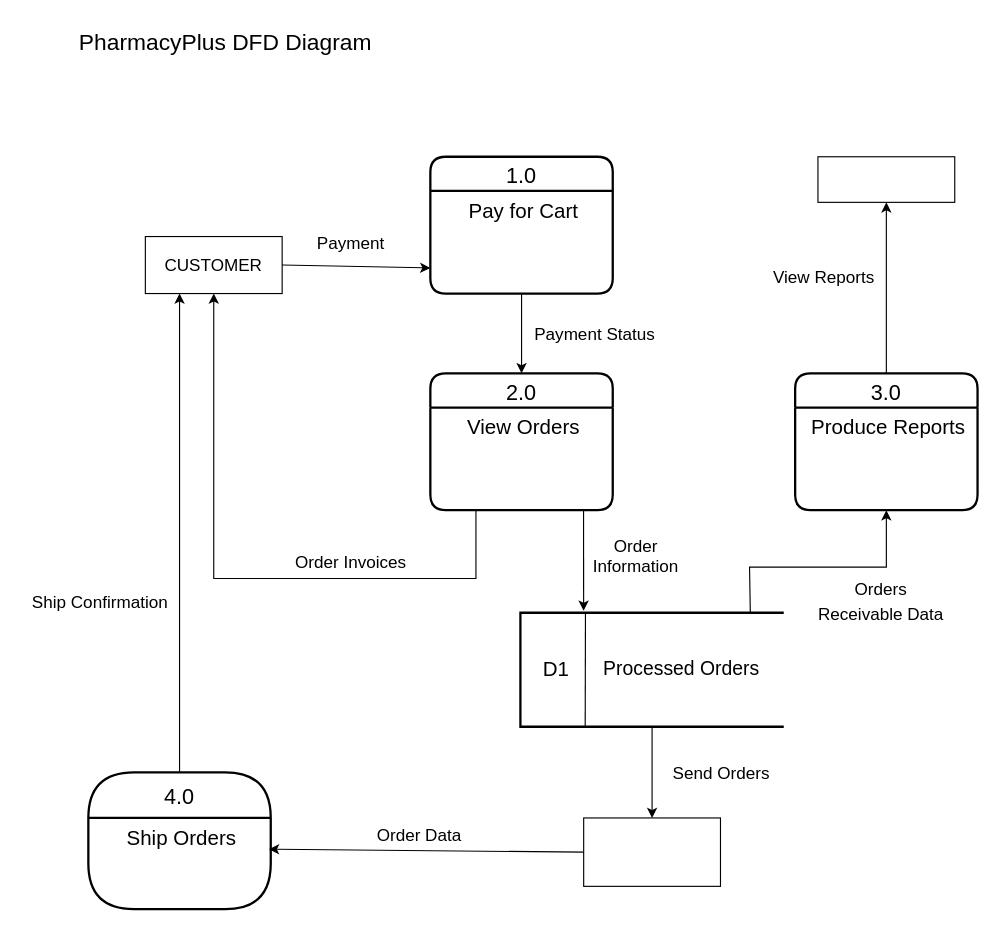
The diagram is 998 pixels wide and 929 high, and some of its shapes have lost their labels. Here are the shapes that lost their labels. From the top down, the centre of each, then its label:
the point at 886,179: ADMIN
the point at 651,851: PHARMACY
